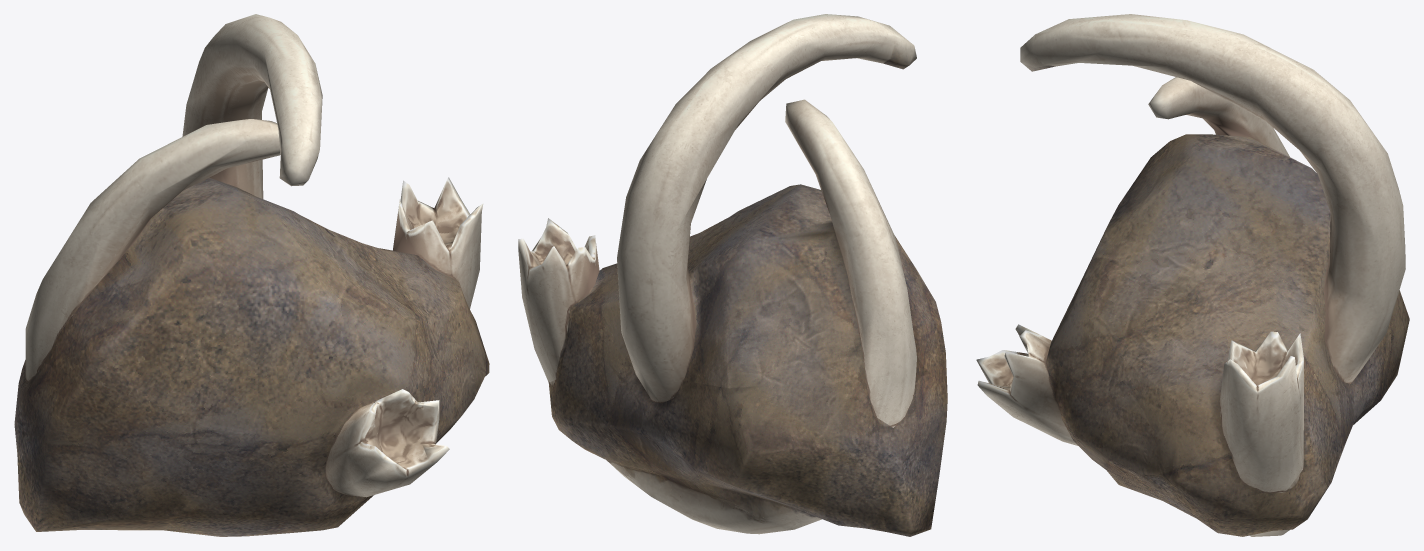
File: SM_FossilNode_5.fbx
3 renders of one model, left to right at view 1: azimuth 30°, elevation 25°; view 2: azimuth 150°, elevation 25°; view 3: azimuth 270°, elevation 25°, orthographic. The views are drawn at different scales.
Visible parts, largest first — view 1: SM_FossilNode_5; view 2: SM_FossilNode_5; view 3: SM_FossilNode_5.
Boxes of the visible parts, box(x1,y1,x2,y2) form: SM_FossilNode_5: box(14, 14, 489, 536); SM_FossilNode_5: box(518, 14, 947, 536); SM_FossilNode_5: box(976, 14, 1409, 536).
Size of the model in its own units: 0.7809 by 0.8555 by 0.6891.
